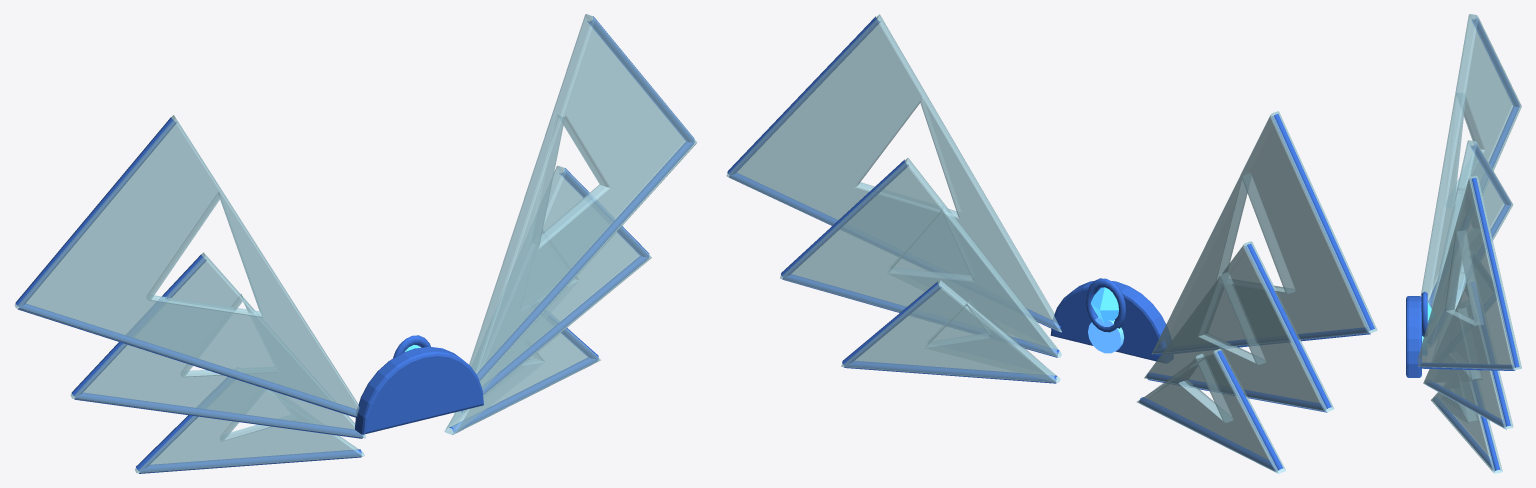
File: back_eqsu1.glb
3 renders of one model, left to right at view 1: azimuth 30°, elevation 25°; view 2: azimuth 150°, elevation 25°; view 3: azimuth 270°, elevation 25°, orthographic. The views are drawn at different scales.
Size of the model in its own units: 4.7 by 2.39 by 0.8685.
